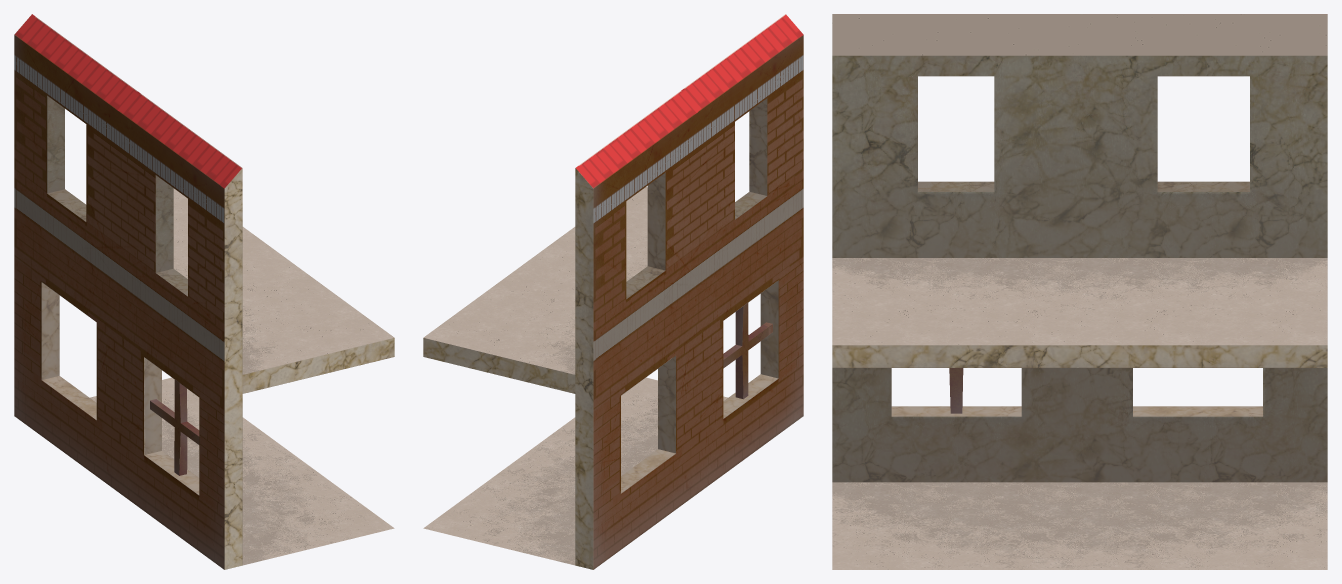
Rendered from Wall1W.fbx.
The picture shows the model from 3 angles, left to right: view 1: azimuth 30°, elevation 25°; view 2: azimuth 150°, elevation 25°; view 3: azimuth 270°, elevation 25°; orthographic projection. The views are drawn at different scales.
Visible parts, largest first — view 1: Cube.003; view 2: Cube.003; view 3: Cube.003.
Boxes of the visible parts, left/top/right/bottom form: Cube.003: left=14, top=14, right=394, bottom=569; Cube.003: left=423, top=14, right=803, bottom=569; Cube.003: left=832, top=14, right=1327, bottom=569.
Size of the model in its own units: 187 by 417 by 400.
